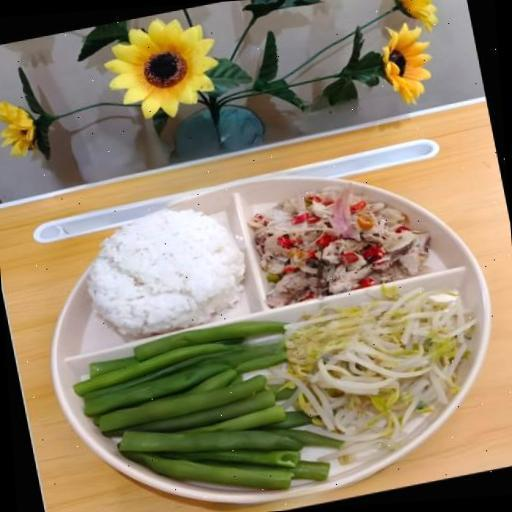buncis_rebus: (58, 308, 324, 512)
nasi_putih: (58, 186, 264, 349)
